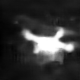plane: (19, 26, 79, 65)
